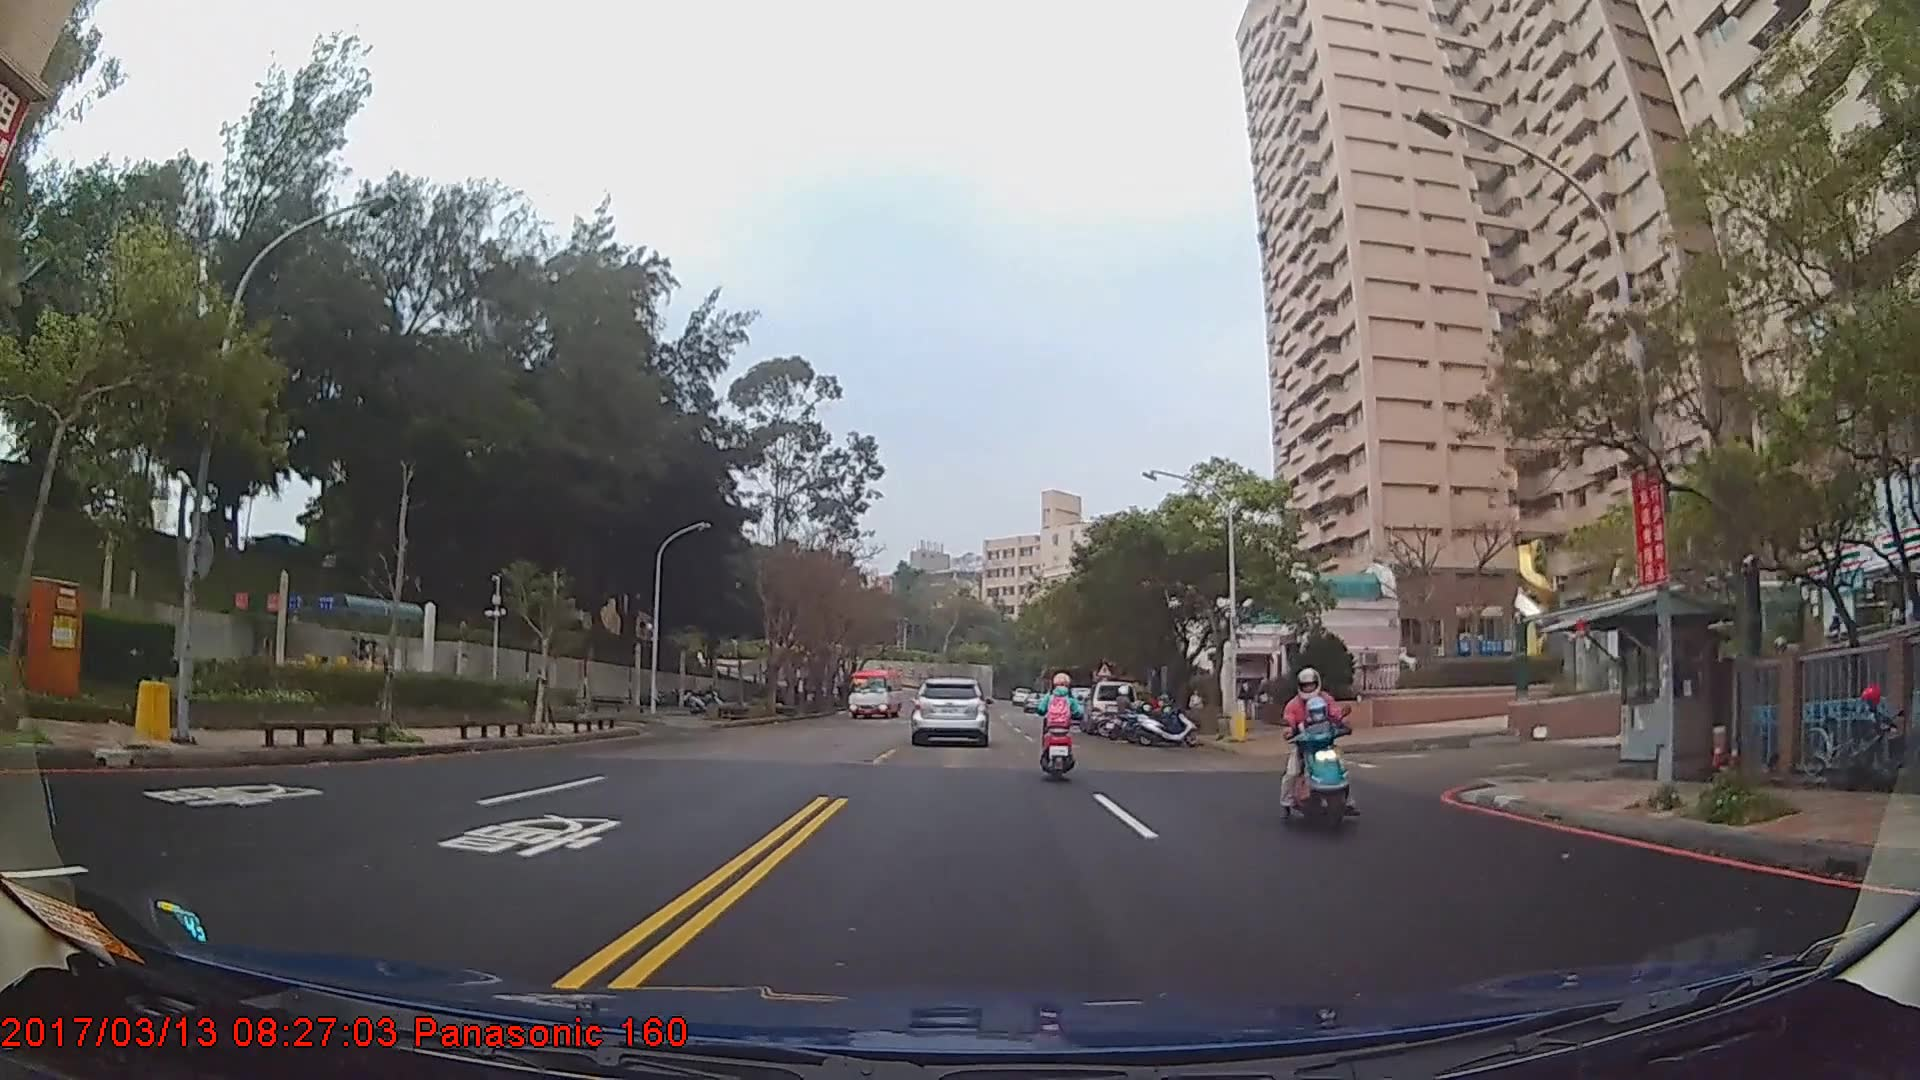rider: (1282, 672, 1358, 833), (1036, 668, 1081, 786), (1104, 685, 1142, 743)
vehicle: (909, 672, 987, 747), (845, 666, 902, 719), (1080, 680, 1134, 735)
